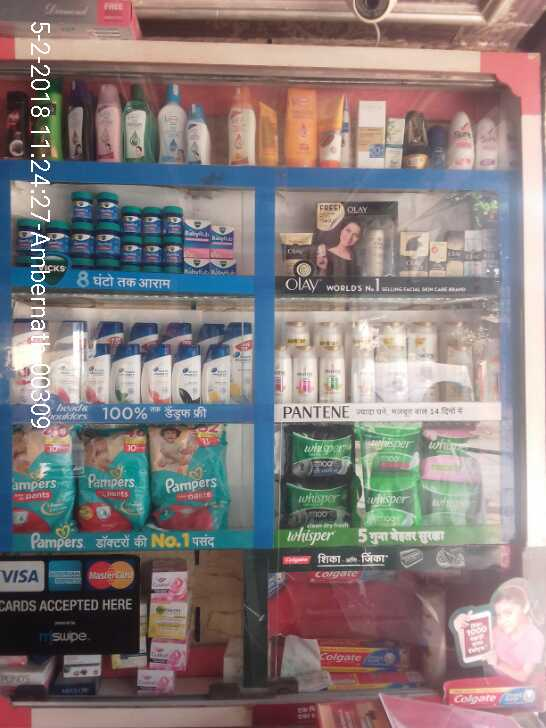vicks: (14, 187, 248, 284)
